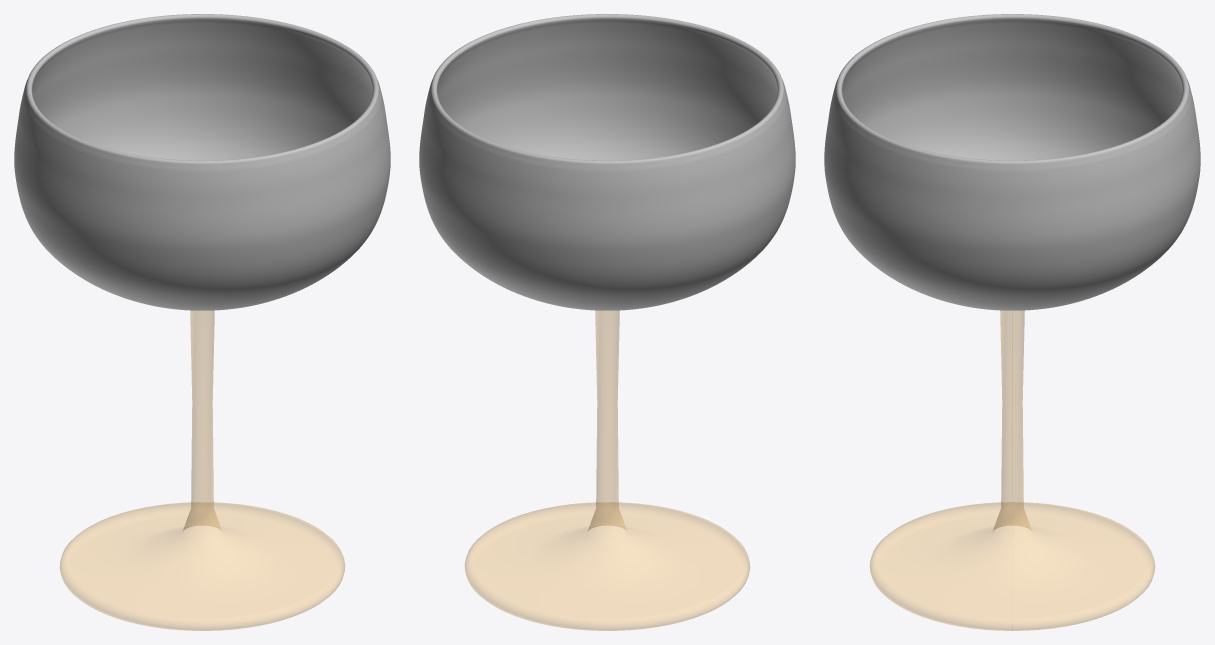
The model's file is coupe.glb.
3 views of the same model, side by side, from view 1: azimuth 30°, elevation 25°; view 2: azimuth 150°, elevation 25°; view 3: azimuth 270°, elevation 25° (orthographic).
Visible parts, largest first — view 1: coupe_Glass, coupe_Stem; view 2: coupe_Glass, coupe_Stem; view 3: coupe_Glass, coupe_Stem.
Part boxes in pixels (x1,y1,x2,y2): coupe_Glass: [14, 14, 390, 310]; coupe_Stem: [60, 311, 344, 630]; coupe_Glass: [419, 14, 795, 310]; coupe_Stem: [465, 311, 749, 630]; coupe_Glass: [824, 14, 1200, 310]; coupe_Stem: [870, 310, 1154, 630].
Size of the model in its own units: 0.1055 by 0.15 by 0.1055.
